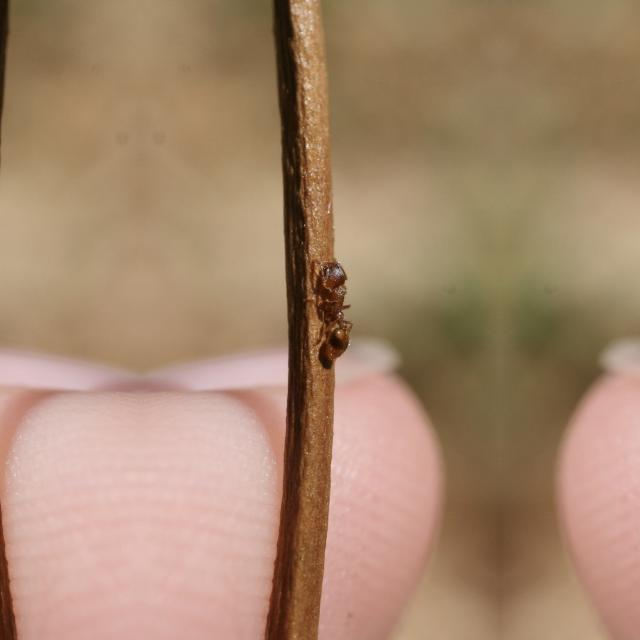Temnothorax: (310, 245, 356, 372)
